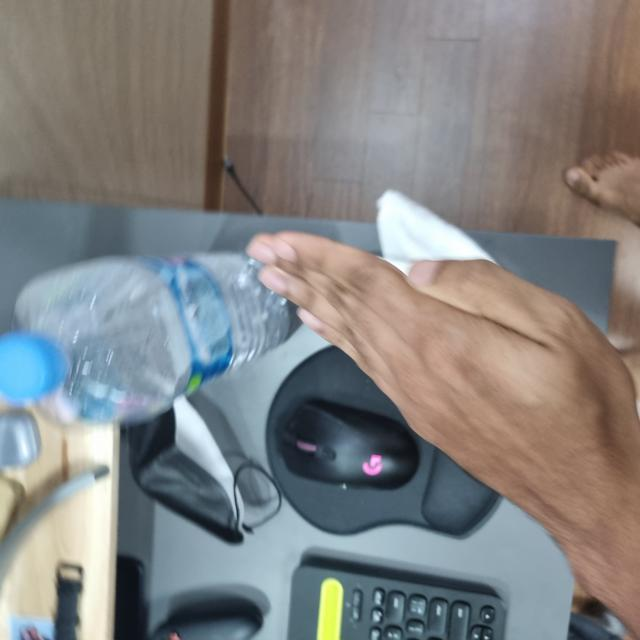Paper: (97, 254, 409, 634)
